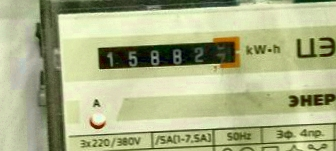1: (104, 50, 114, 68)
2: (192, 45, 203, 62)
5: (125, 49, 137, 67)
7: (214, 51, 225, 64)
8: (148, 48, 159, 65), (171, 48, 181, 64)
screen: (90, 34, 246, 74)
